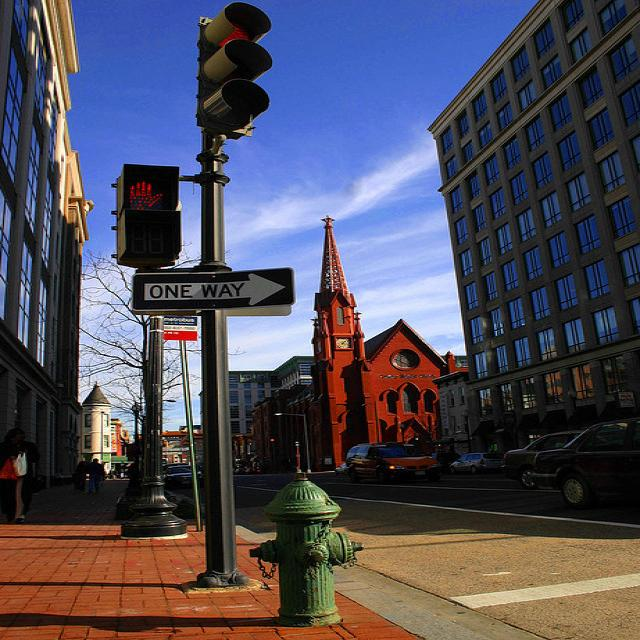Vehicle: (524, 418, 640, 506), (500, 429, 584, 487), (345, 443, 445, 485), (448, 452, 505, 474), (165, 465, 207, 491), (334, 461, 346, 475)
